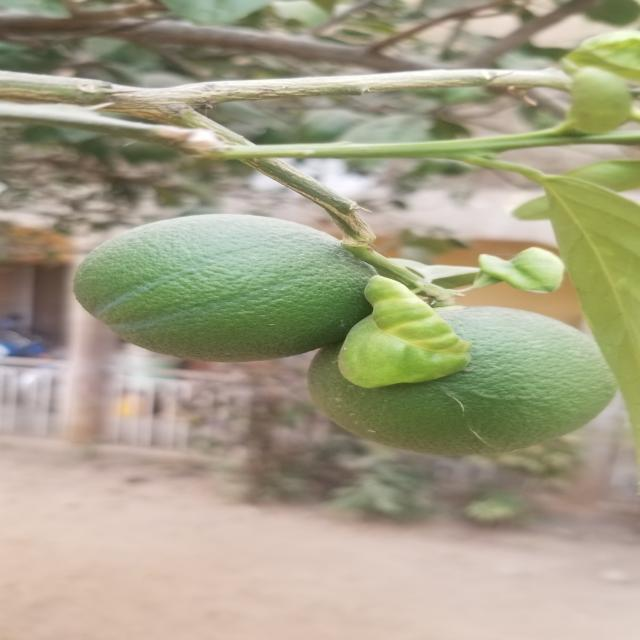Unripe: (62, 206, 389, 376), (297, 296, 624, 460)
